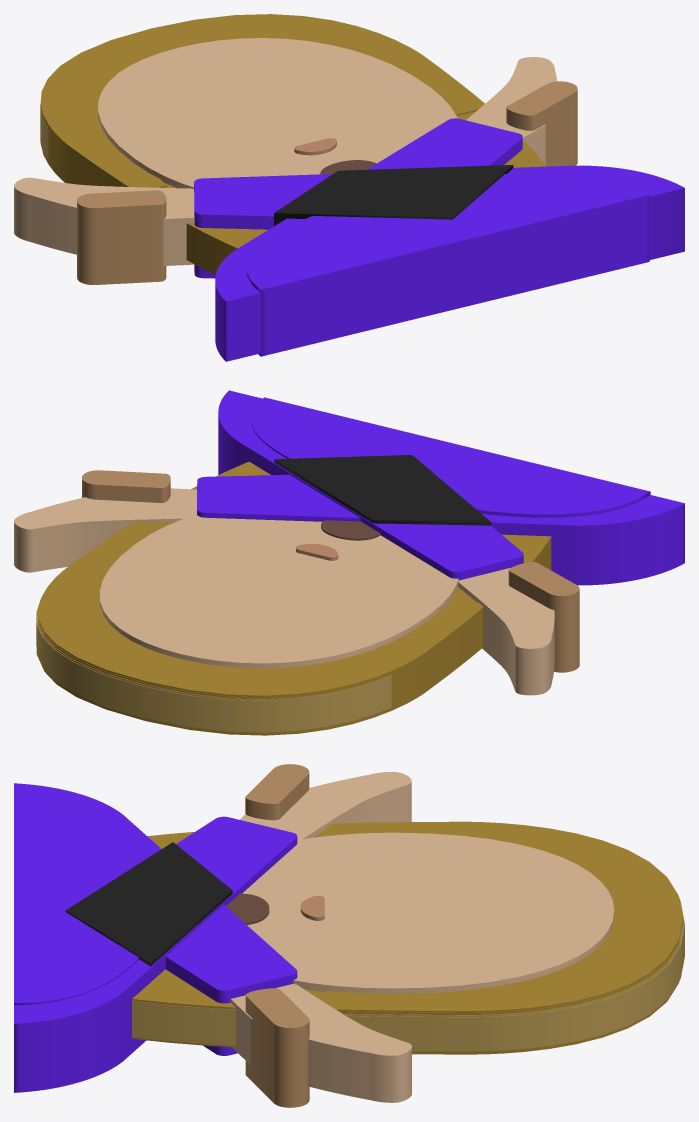
File: emoji_u1f645_1f3fc_200d_2640.glb
3 views of the same model, one above another, from view 1: azimuth 30°, elevation 25°; view 2: azimuth 150°, elevation 25°; view 3: azimuth 270°, elevation 25° (orthographic). The views are drawn at different scales.
Visible parts, largest first — view 1: emoji_u1f645_1f3fc_200d_2640; view 2: emoji_u1f645_1f3fc_200d_2640; view 3: emoji_u1f645_1f3fc_200d_2640.
Boxes of the visible parts, <box> form: emoji_u1f645_1f3fc_200d_2640: <box>14,14,684,361</box>; emoji_u1f645_1f3fc_200d_2640: <box>14,390,684,735</box>; emoji_u1f645_1f3fc_200d_2640: <box>14,764,684,1107</box>.
Bounding box in the file's own units: 0.0334 × 0.0046 × 0.0335.
